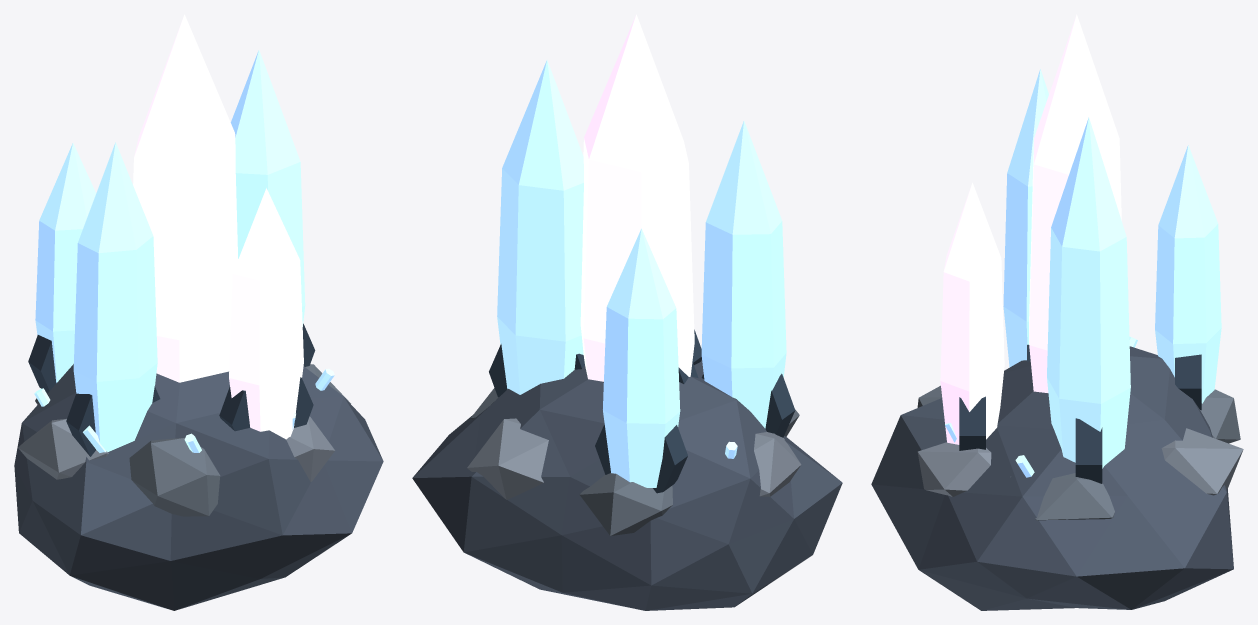
File: ore_Xenomit.glb
3 renders of one model, left to right at view 1: azimuth 30°, elevation 25°; view 2: azimuth 150°, elevation 25°; view 3: azimuth 270°, elevation 25°, orthographic. The views are drawn at different scales.
Parts seen in each view (by area): view 1: root_fractured_asteroid, crystal_main_0, crystal_main_1, crystal_main_3, crystal_main_2, crystal_main_4, rock_armor_2, rock_armor_3, rock_armor_1, crystal_socket_3, crystal_socket_1, crystal_socket_4; view 2: root_fractured_asteroid, crystal_main_0, crystal_main_2, crystal_main_1, crystal_main_4, rock_armor_5, rock_armor_4, rock_armor_3, crystal_socket_4, crystal_socket_1, crystal_socket_2; view 3: root_fractured_asteroid, crystal_main_2, crystal_main_0, crystal_main_3, crystal_main_4, crystal_main_1, rock_armor_5, rock_armor_1, rock_armor_0, crystal_socket_2, rock_armor_4, crystal_socket_3 (+1 smaller).
Part boxes in pixels (<box>): root_fractured_asteroid: <box>14,364,383,610</box>; crystal_main_0: <box>133,14,238,382</box>; crystal_main_1: <box>73,142,157,451</box>; crystal_main_3: <box>229,188,303,439</box>; crystal_main_2: <box>230,50,305,326</box>; crystal_main_4: <box>35,143,96,382</box>; rock_armor_2: <box>129,437,220,516</box>; rock_armor_3: <box>18,418,108,479</box>; rock_armor_1: <box>286,416,335,481</box>; crystal_socket_3: <box>219,377,313,431</box>; crystal_socket_1: <box>66,386,160,456</box>; crystal_socket_4: <box>28,335,56,393</box>; root_fractured_asteroid: <box>412,360,842,610</box>; crystal_main_0: <box>580,14,694,381</box>; crystal_main_2: <box>497,60,583,394</box>; crystal_main_1: <box>701,121,786,428</box>; crystal_main_4: <box>603,228,680,487</box>; rock_armor_5: <box>467,418,548,499</box>; rock_armor_4: <box>580,473,672,535</box>; rock_armor_3: <box>754,432,801,496</box>; crystal_socket_4: <box>595,424,687,493</box>; crystal_socket_1: <box>701,373,795,437</box>; crystal_socket_2: <box>489,344,584,397</box>; root_fractured_asteroid: <box>871,346,1233,610</box>; crystal_main_2: <box>1047,117,1130,468</box>; crystal_main_0: <box>1029,14,1121,392</box>; crystal_main_3: <box>940,182,1004,444</box>; crystal_main_4: <box>1155,145,1221,403</box>; crystal_main_1: <box>1003,69,1048,367</box>; rock_armor_5: <box>1161,428,1243,495</box>; rock_armor_1: <box>917,442,991,496</box>; rock_armor_0: <box>1010,473,1114,520</box>; crystal_socket_2: <box>1075,418,1102,483</box>; rock_armor_4: <box>1200,389,1240,443</box>; crystal_socket_3: <box>959,396,985,450</box>.
Bounding box in the file's own units: 1.66 × 2.61 × 1.54.
